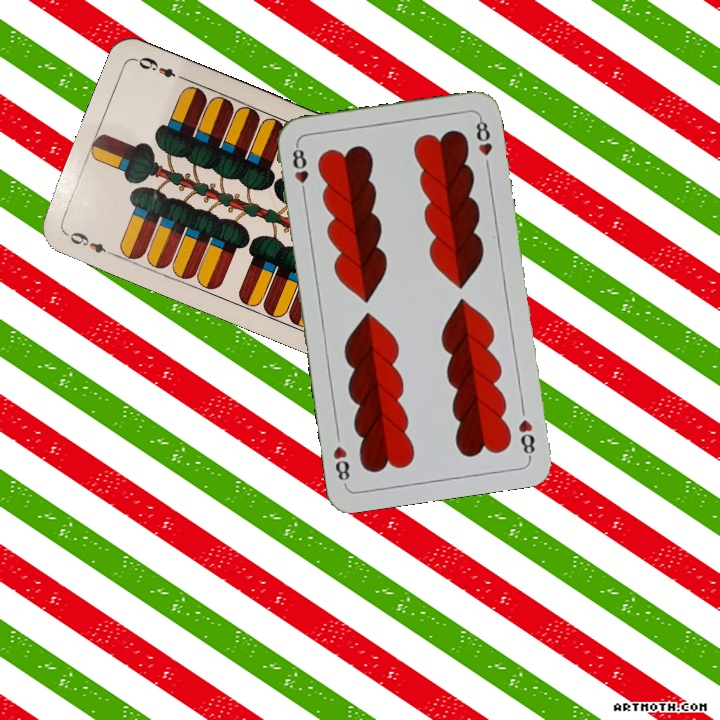E9: (62, 228, 118, 259)
H8: (288, 142, 311, 201), (514, 415, 538, 461)
